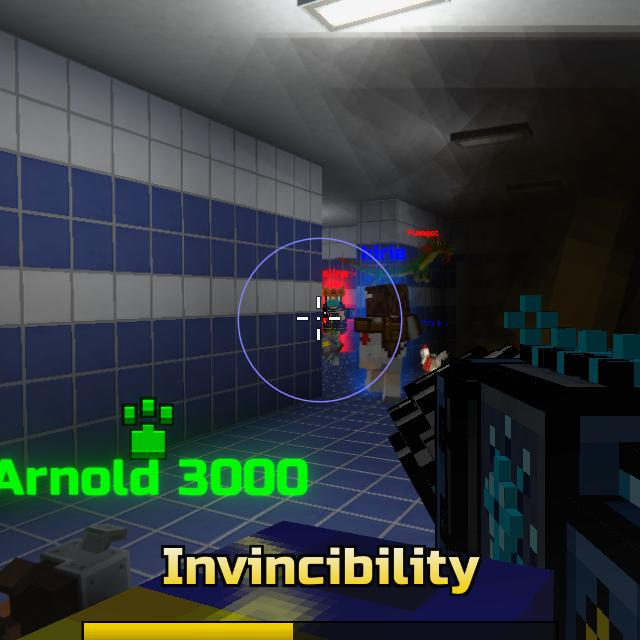Enemy: (322, 290, 355, 365)
